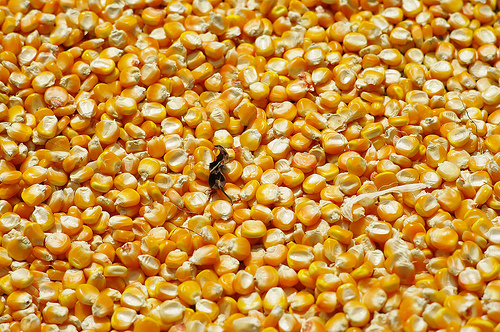corn: (429, 225, 460, 253), (37, 112, 57, 138), (265, 245, 289, 265), (270, 115, 293, 133)
